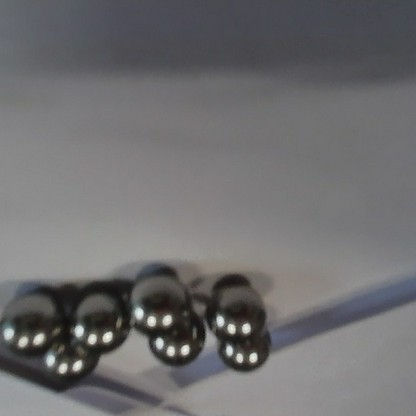ironball: (0, 293, 60, 351), (130, 274, 190, 330), (70, 293, 125, 347), (209, 283, 266, 335), (150, 311, 203, 366), (219, 333, 267, 369), (44, 344, 94, 376)
